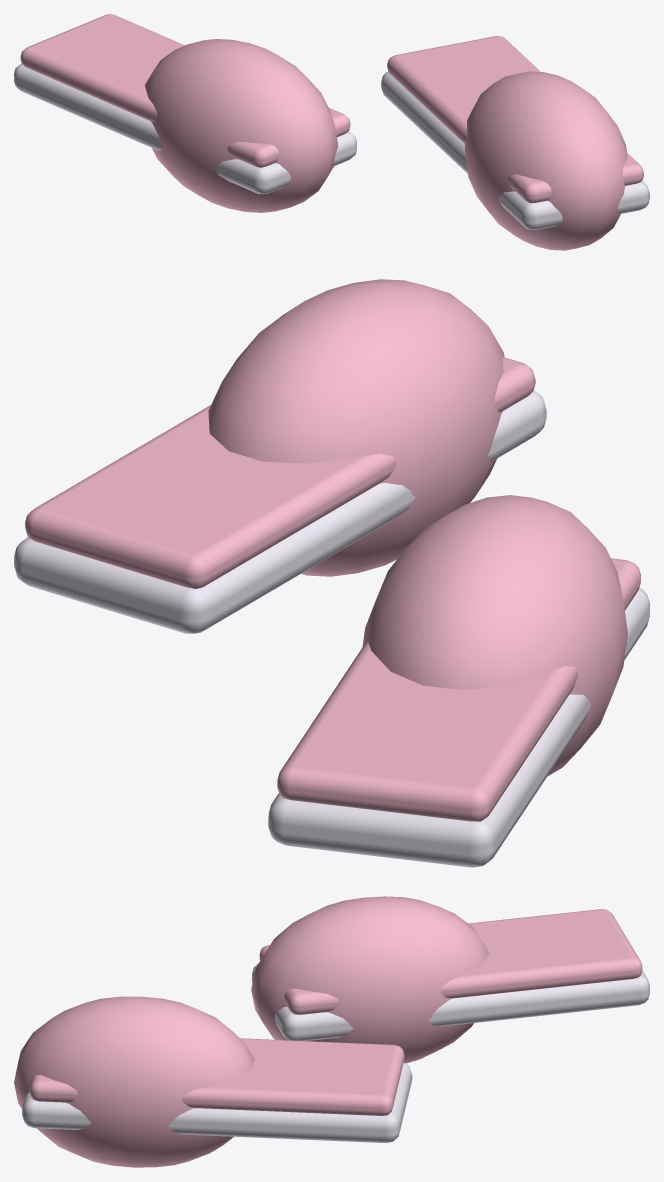
Rendered from slippers.fbx.
3 views of the same model, one above another, from view 1: azimuth 30°, elevation 25°; view 2: azimuth 150°, elevation 25°; view 3: azimuth 270°, elevation 25° (orthographic). The views are drawn at different scales.
Visible parts, largest first — view 1: slippers; view 2: slippers; view 3: slippers.
Part boxes in pixels (x1,y1,x2,y2): slippers: (14, 14, 649, 250); slippers: (14, 279, 649, 867); slippers: (14, 896, 649, 1167).
Bounding box in the file's own units: 0.3202 × 0.12 × 0.4351.
